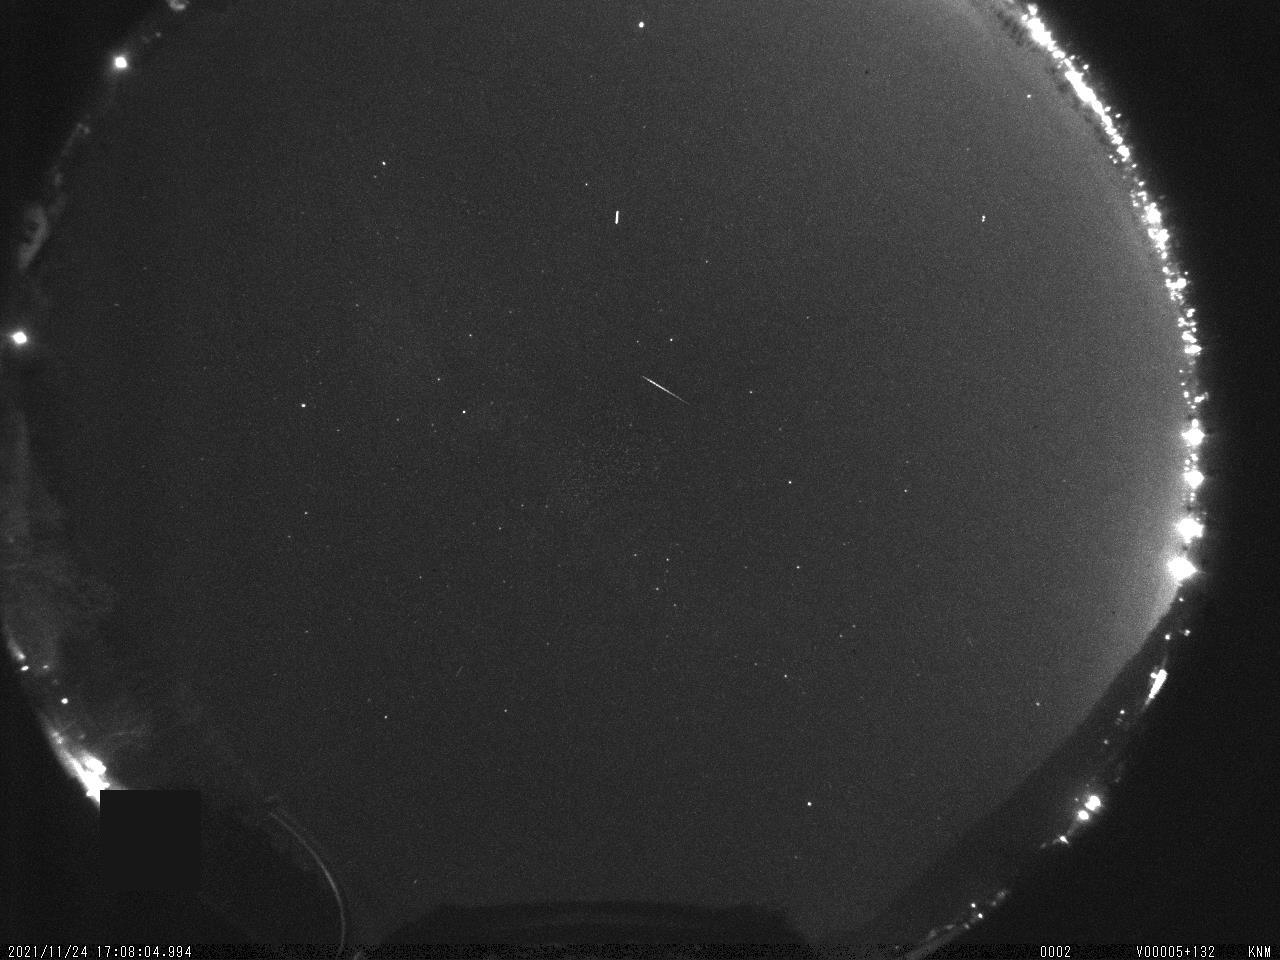meteor: (631, 361, 698, 415)
